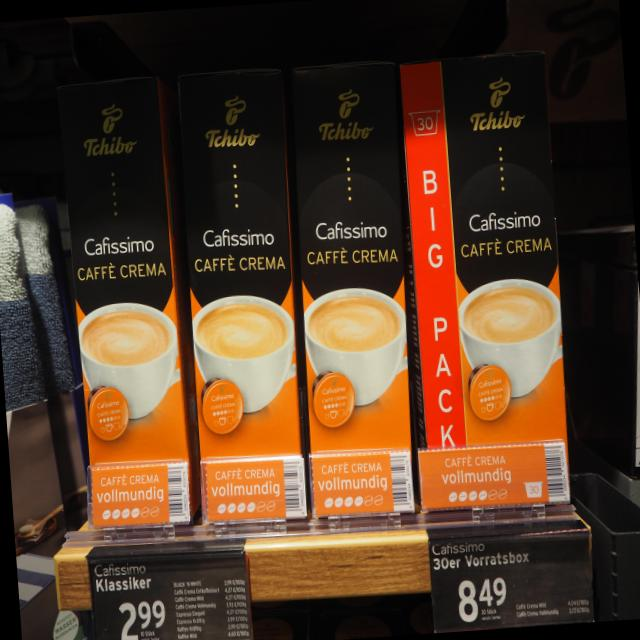Simo CCVollmundig: (394, 48, 574, 516)
Simo CCVollmundig bigpack: (171, 68, 314, 532), (281, 61, 417, 524), (60, 76, 196, 537)
